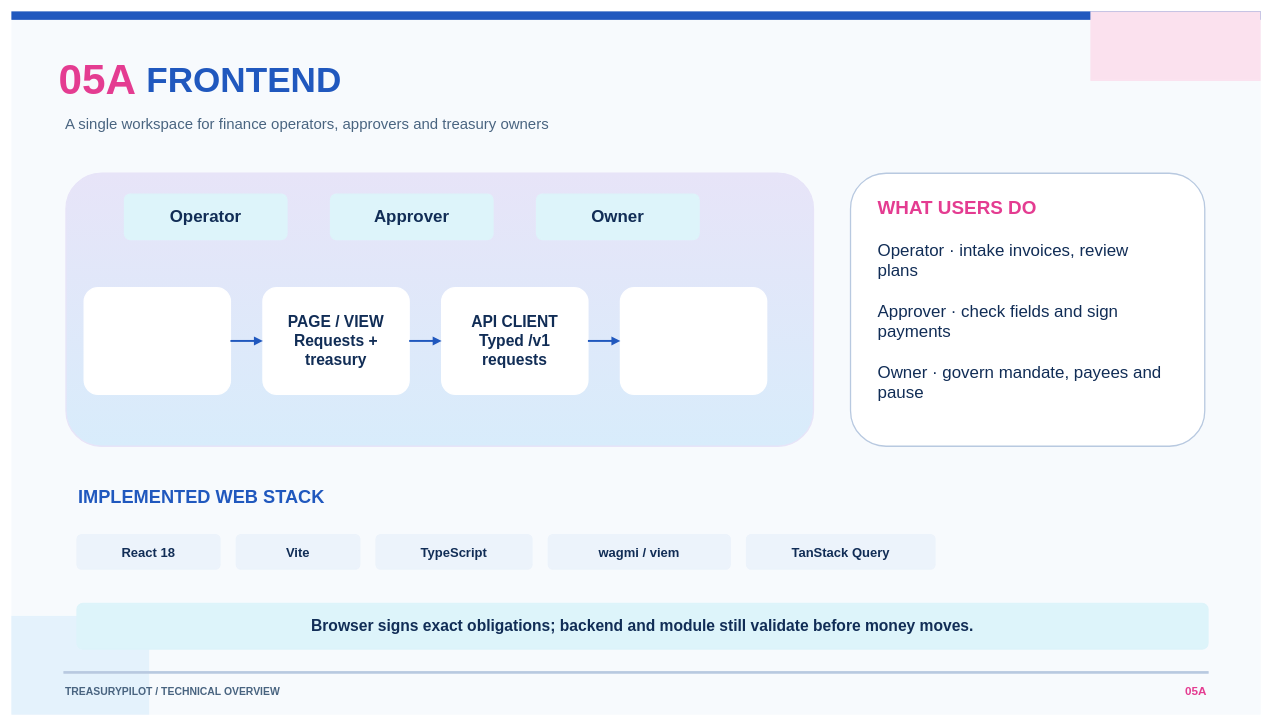
This 1271x725 diagram has some shape labels left out. The centre of each missing label's shape, as x and y in pixels:
ROUTER URL + access guard: point 157,341
WALLET SIWE + EIP-712: point 693,341
